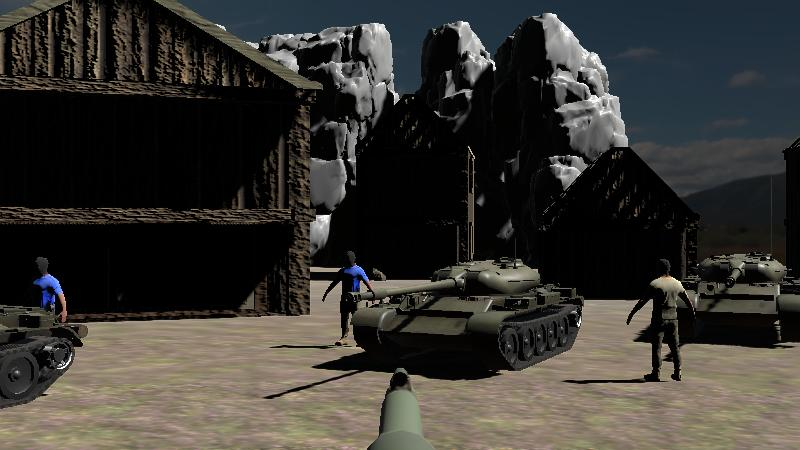House: (0, 2, 315, 314), (259, 15, 627, 274)
Human: (625, 256, 697, 384), (321, 250, 375, 348)
Tank: (351, 254, 586, 373), (0, 252, 89, 428), (679, 247, 800, 344)
